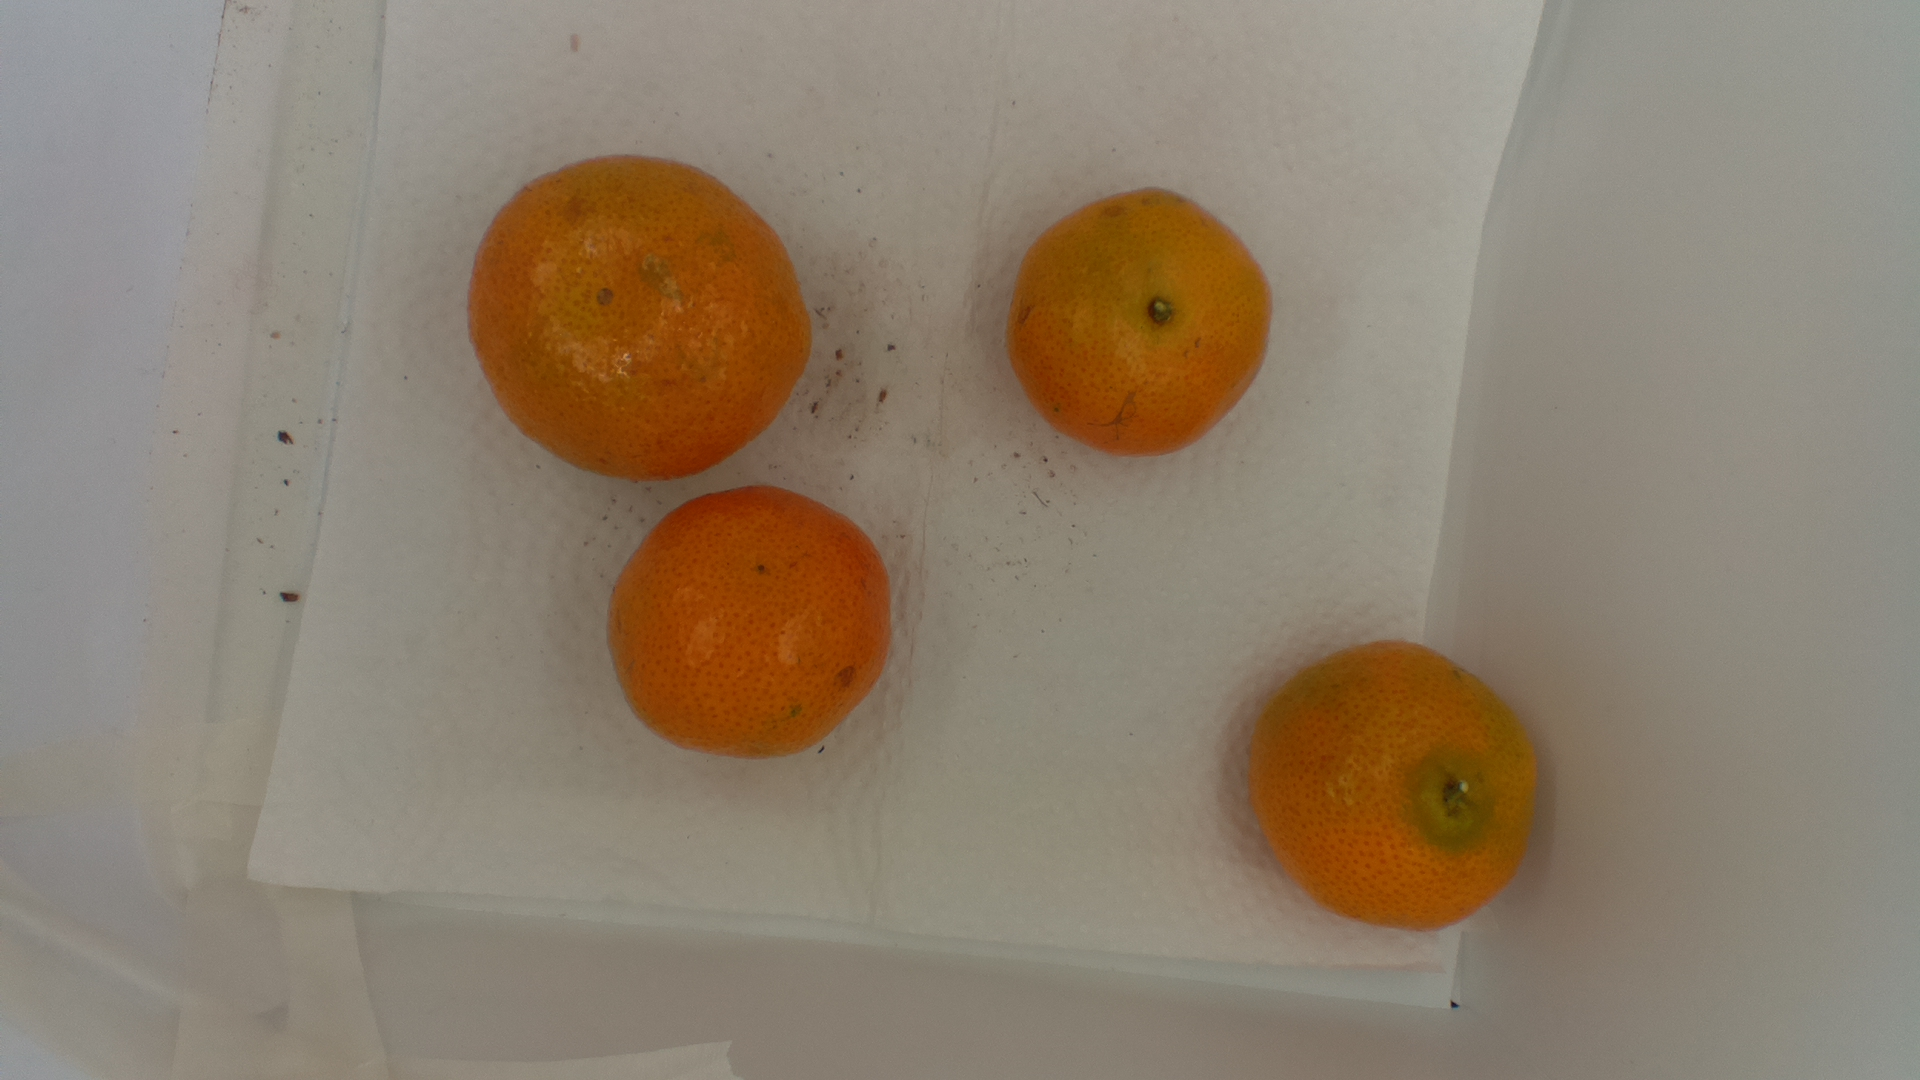fruit: (465, 157, 899, 767), (1251, 638, 1544, 939), (1000, 185, 1284, 465)
